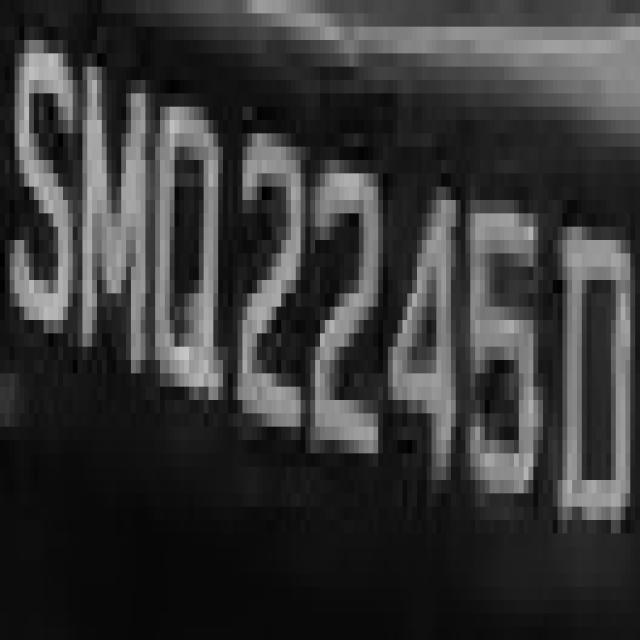2: (300, 134, 392, 494), (233, 80, 315, 480)
4: (373, 120, 461, 480)
5: (461, 160, 538, 547)
D: (543, 173, 640, 587)
M: (78, 13, 155, 400)
Q: (145, 67, 233, 453)
S: (14, 14, 72, 374)
